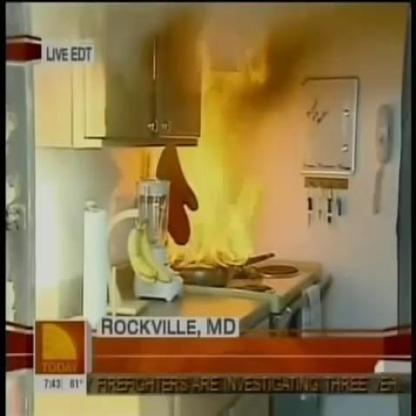fire: (168, 86, 271, 270)
